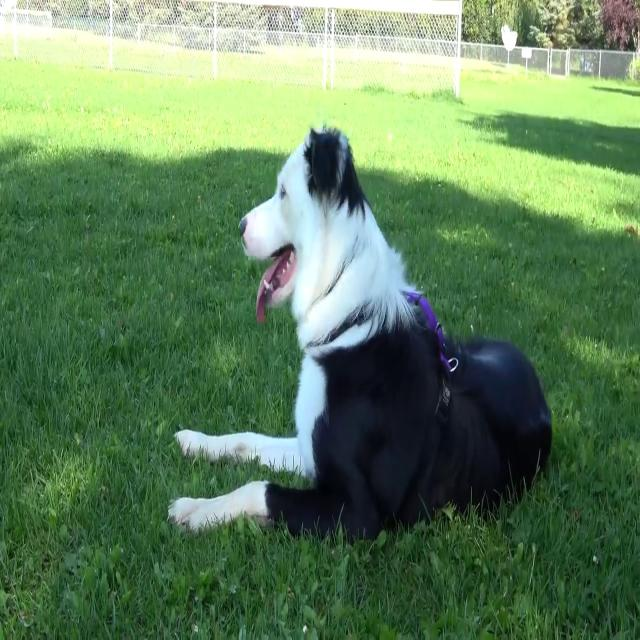Dog: (166, 123, 554, 542)
